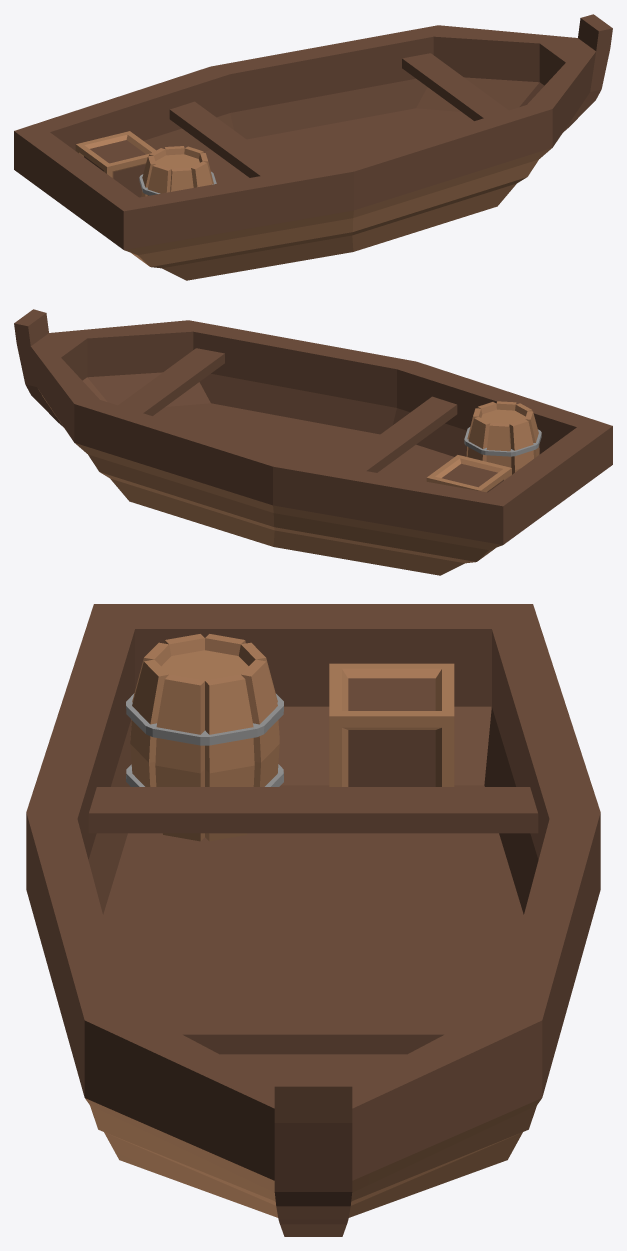
The model's file is boat.glb.
3 views of the same model, one above another, from view 1: azimuth 30°, elevation 25°; view 2: azimuth 150°, elevation 25°; view 3: azimuth 270°, elevation 25° (orthographic). The views are drawn at different scales.
Visible parts, largest first — view 1: Boat; view 2: Boat; view 3: Boat.
Boxes of the visible parts, bbox=[...] form: Boat: bbox=[14, 14, 612, 280]; Boat: bbox=[14, 309, 612, 575]; Boat: bbox=[26, 604, 600, 1236].
Bounding box in the file's own units: 1.28 × 0.2556 × 0.5939.
